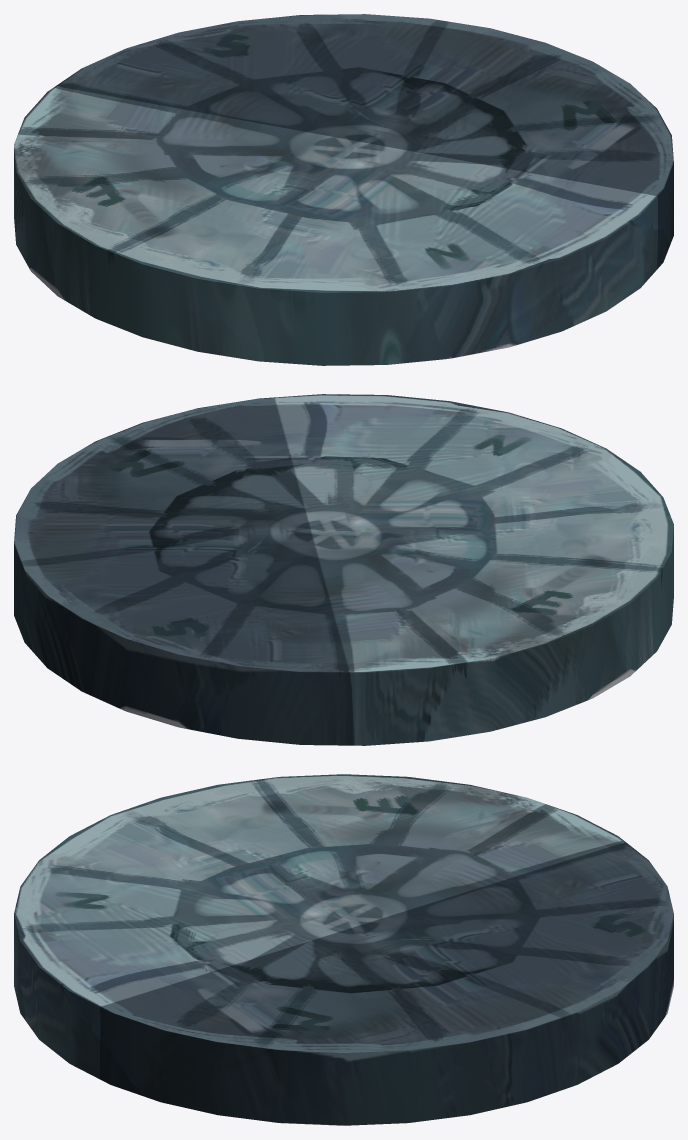
File: StatueFloor.fbx
The picture shows the model from 3 angles, top to bottom: view 1: azimuth 30°, elevation 25°; view 2: azimuth 150°, elevation 25°; view 3: azimuth 270°, elevation 25°; orthographic projection.
Visible parts, largest first — view 1: Cylinder.001; view 2: Cylinder.001; view 3: Cylinder.001.
Boxes of the visible parts, x1,y1,x2,y2 form: Cylinder.001: (14,14,673,365); Cylinder.001: (14,394,673,745); Cylinder.001: (14,774,673,1125).
Bounding box in the file's own units: 840 × 102 × 840.
Materials: 1 (1 with a texture image).
